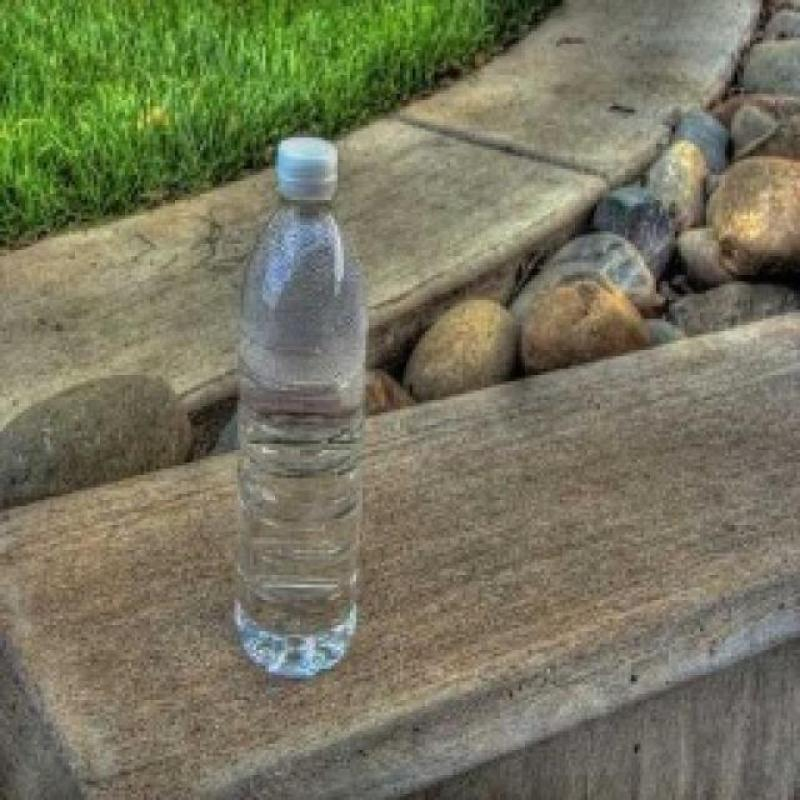botella: (233, 134, 368, 678)
